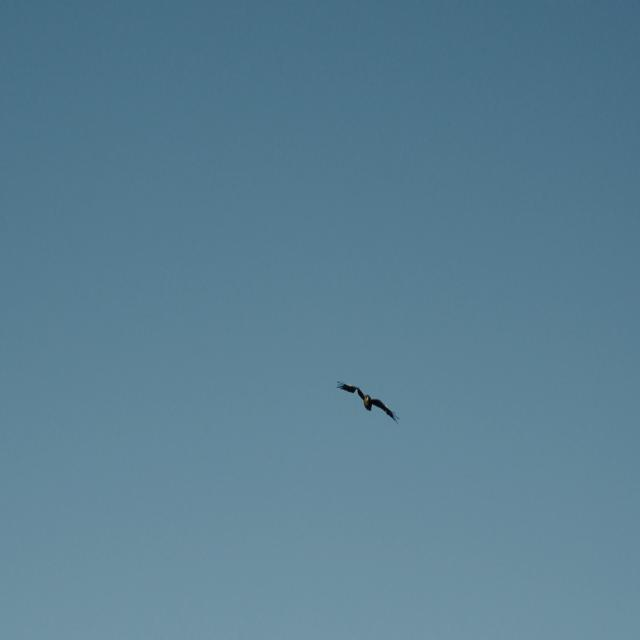bird: (334, 368, 396, 431)
